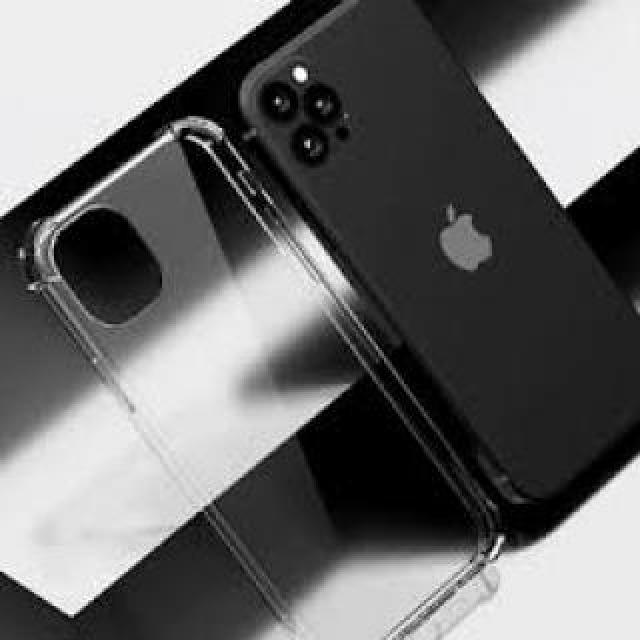smart phone: (250, 0, 640, 514)
